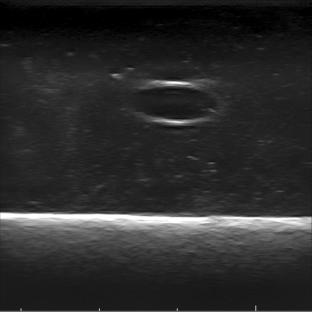vessel: (128, 81, 220, 126)
